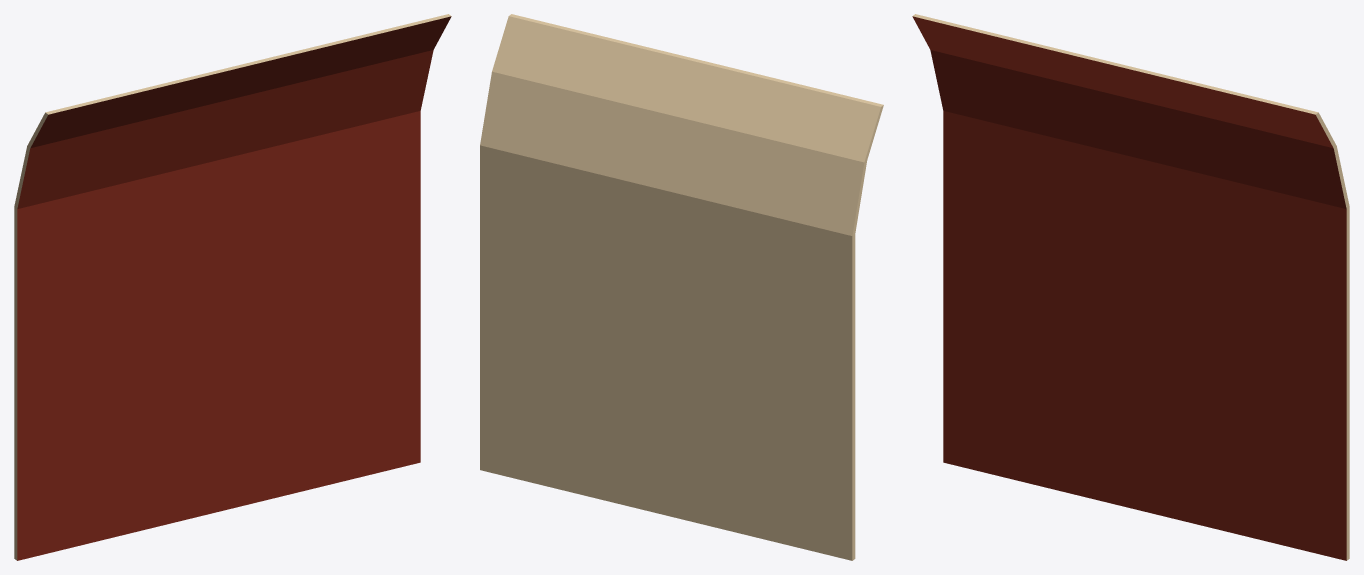
Rendered from create_red_sand_paper.obj.
The picture shows the model from 3 angles, left to right: view 1: azimuth 30°, elevation 25°; view 2: azimuth 150°, elevation 25°; view 3: azimuth 330°, elevation 25°; orthographic projection. The views are drawn at different scales.
Parts seen in each view (by area): view 1: abrasive_sheet; view 2: abrasive_sheet; view 3: abrasive_sheet.
Part boxes in pixels (x1,y1,x2,y2): abrasive_sheet: [14, 14, 451, 560]; abrasive_sheet: [480, 14, 883, 560]; abrasive_sheet: [912, 14, 1349, 560].
Bounding box in the file's own units: 0.5625 × 0.625 × 0.0825.
